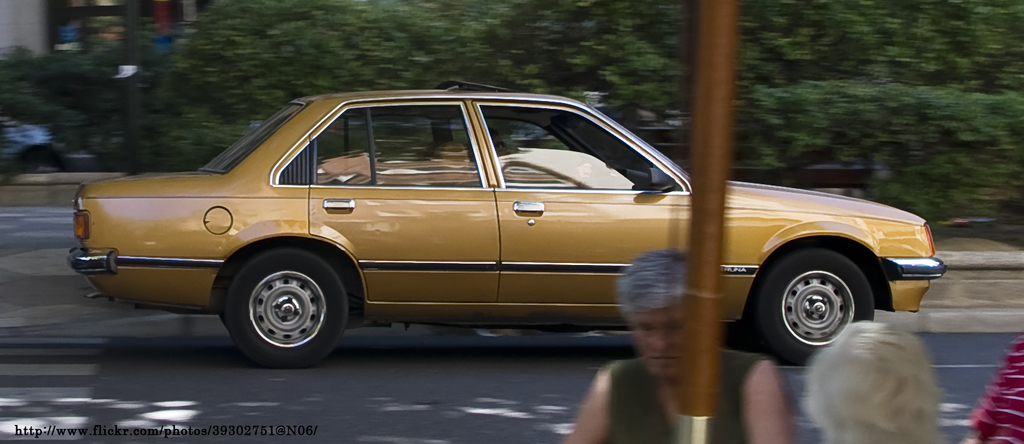Car: (64, 95, 942, 371)
